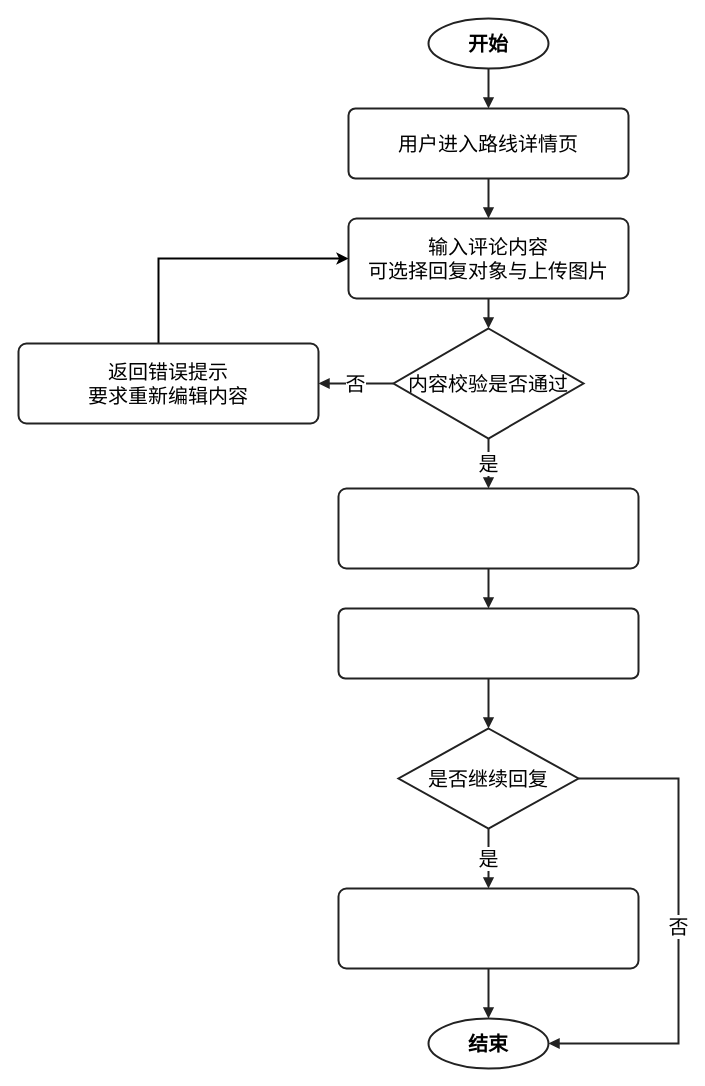
Image size: 705x1086. Some labels were removed from this diagram. The shapes that lost their labels are listed below. From the top down, each one's box as (x1, y1, x2, y2) in pixels, then its label:
(337, 487, 639, 569): 保存评论记录
(337, 607, 639, 679): 更新评论数与互动展示
(337, 887, 639, 969): 刷新评论区 展示评论、回复与图片
